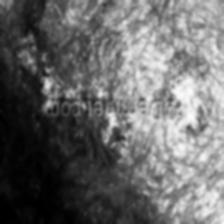Potentially Malignant Skin Tumors: (39, 67, 101, 97), (181, 76, 199, 144), (102, 121, 134, 151)
